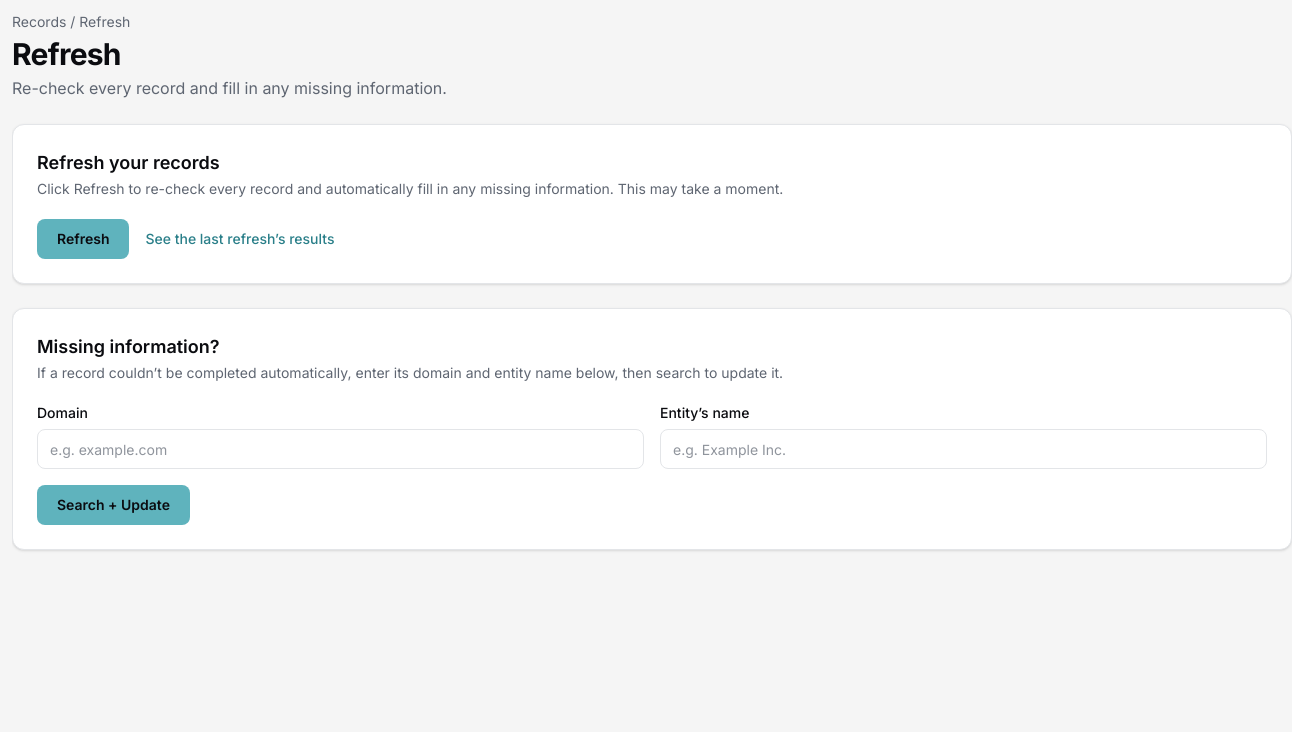
shows progress while running, greys out the form, and blocks a second start
Click the button "Refresh" at coordinates (83, 239), box [37,219,130,259]
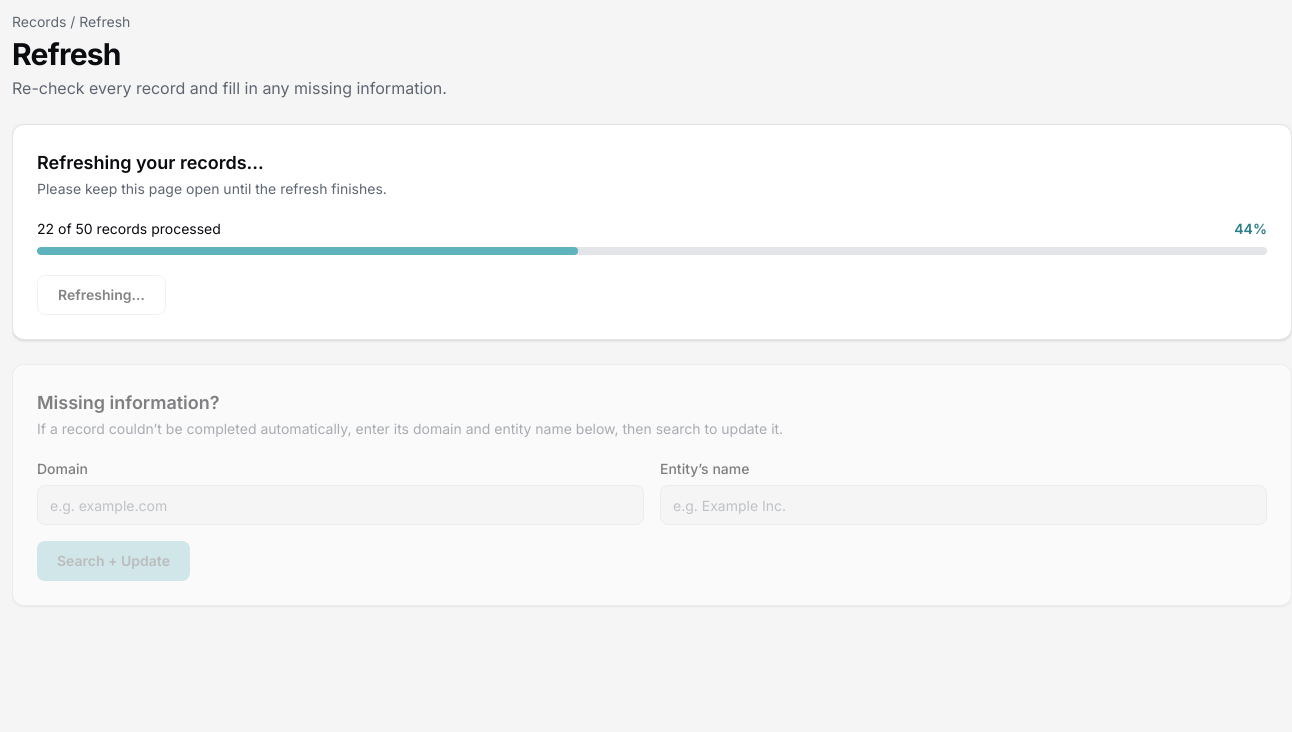
Check: the heading "Refreshing your records…" is shown, box [37,152,264,173]
Check: the text "Please keep this page open until the refresh finishes." is shown, box [37,179,387,199]
Check: the button "Refreshing…" is disabled, box [37,275,166,315]
